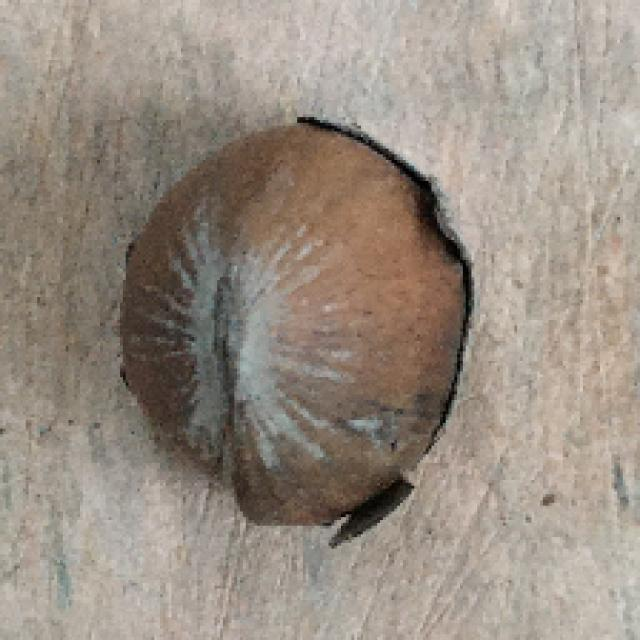damagedHazelnut: (116, 112, 480, 545)
